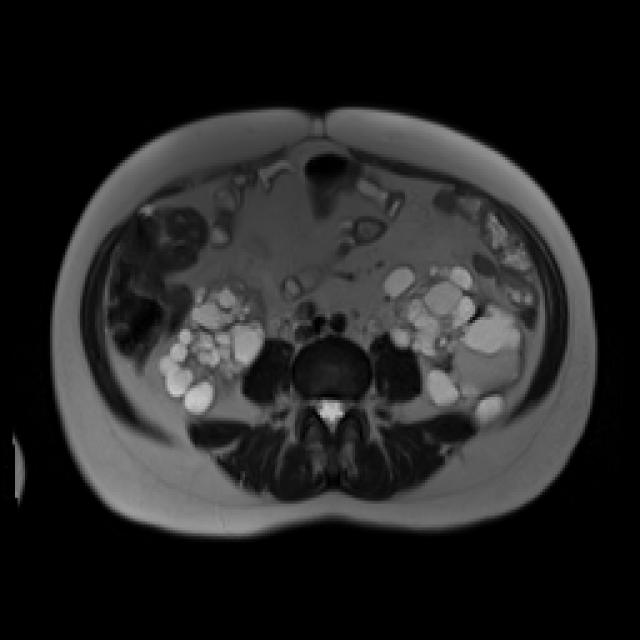sag: (155, 273, 267, 417)
sol: (381, 261, 526, 426)
